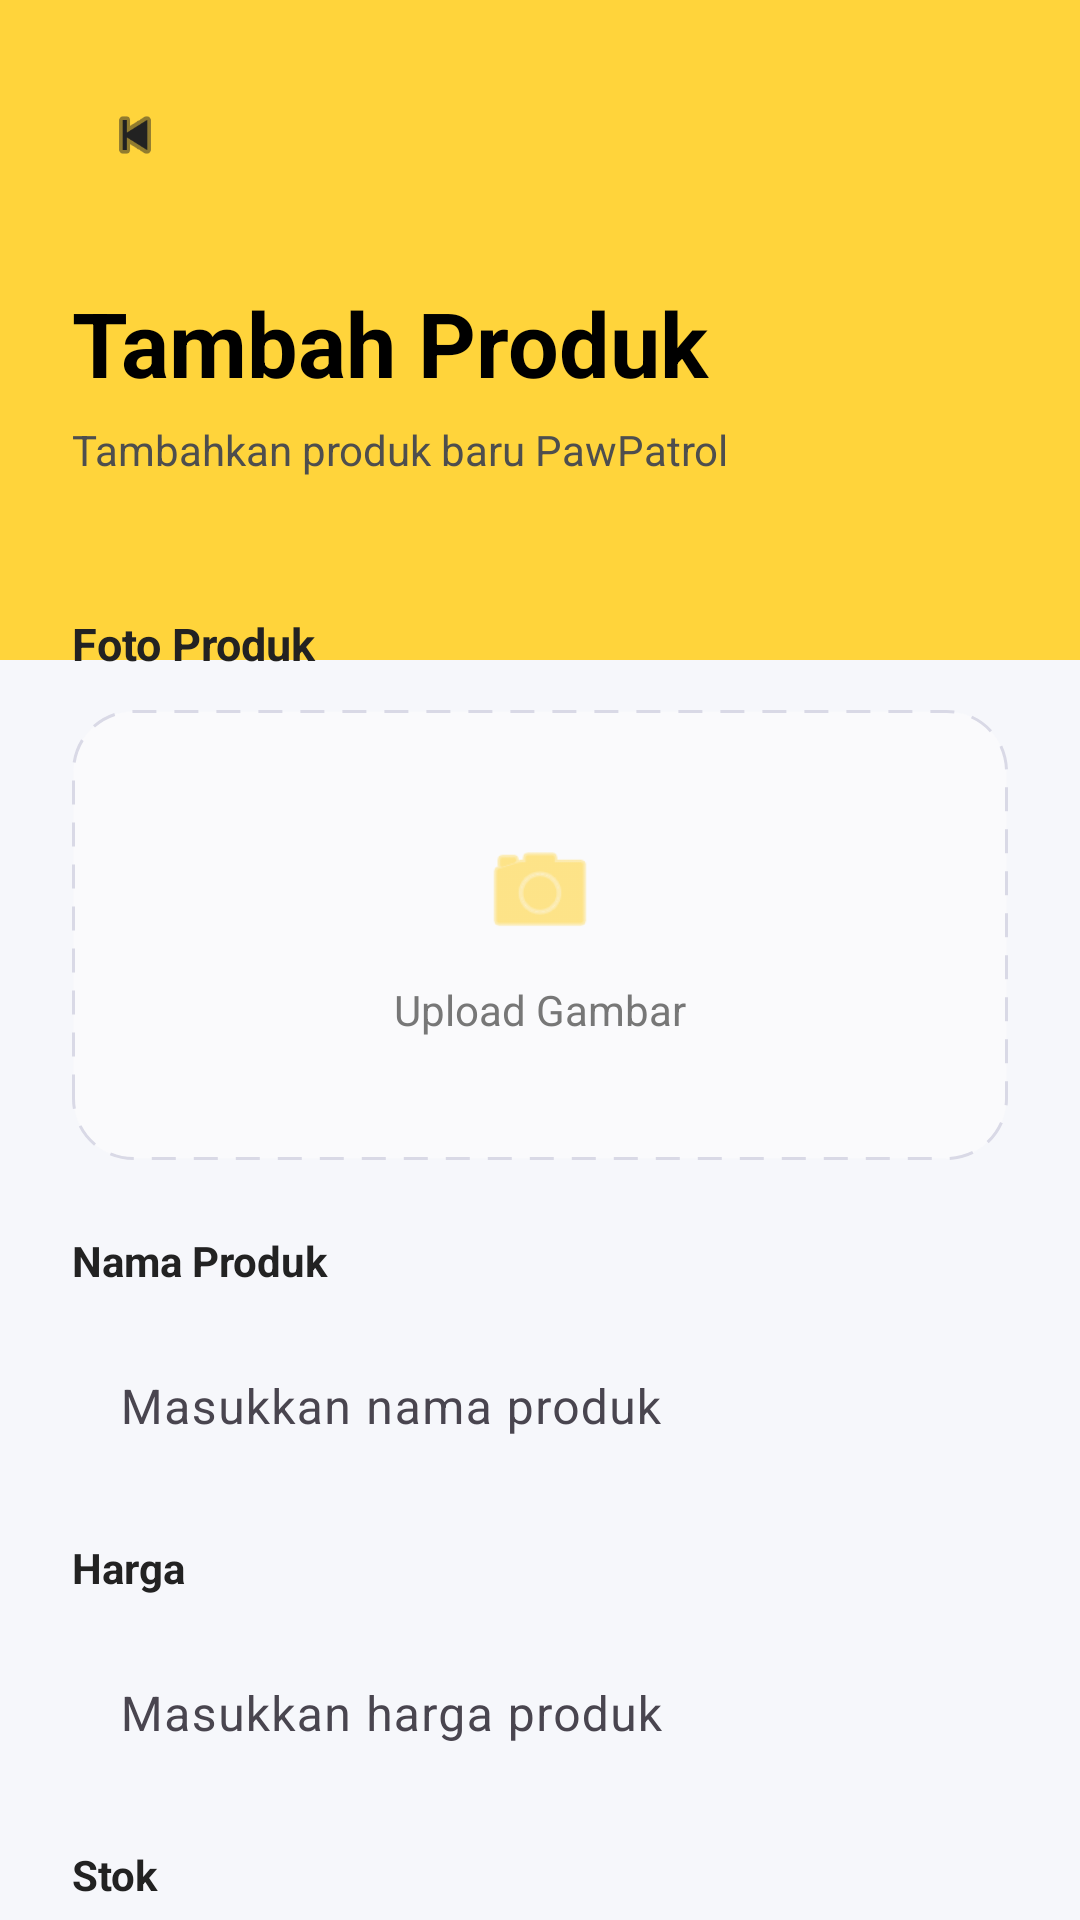

Locate icon controls on the screen. Image size 1080 × 1920, boxes as {"left": x1, "top": y1, "right": x2, "bottom": y2}.
camera: {"left": 494, "top": 852, "right": 586, "bottom": 926}
previous: {"left": 119, "top": 116, "right": 151, "bottom": 154}
